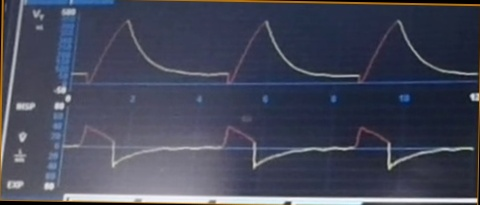Flow: (67, 121, 463, 192)
Leakage Volume: (77, 18, 468, 93)
